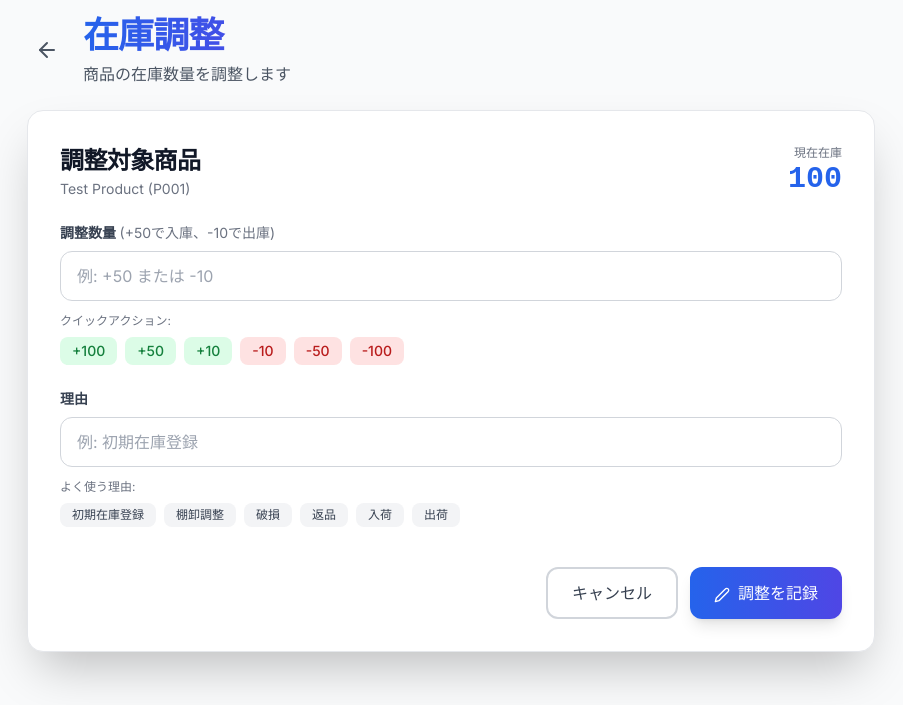
InventoryAdjustment › Adjustment Form › should update quantity when quick action button is clicked
What coordinates should you click on to do the following:
click the button "+50"
I would click on:
 (151, 351)
Its box is [125,337,176,365].
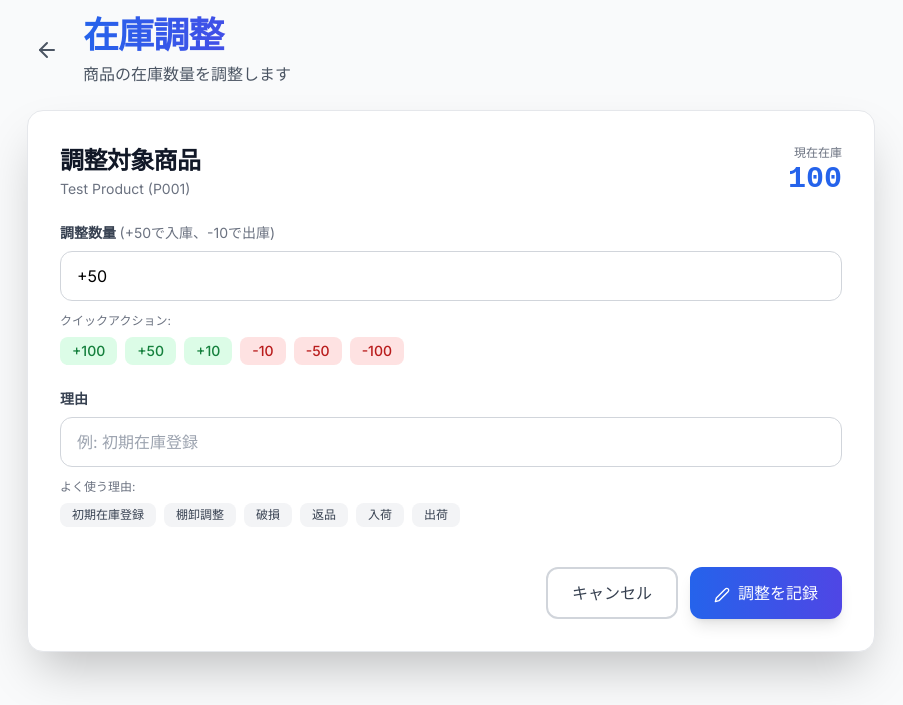
Result: the field with placeholder "例: +50 または -10" holds "+50" at [60,251,842,301]
